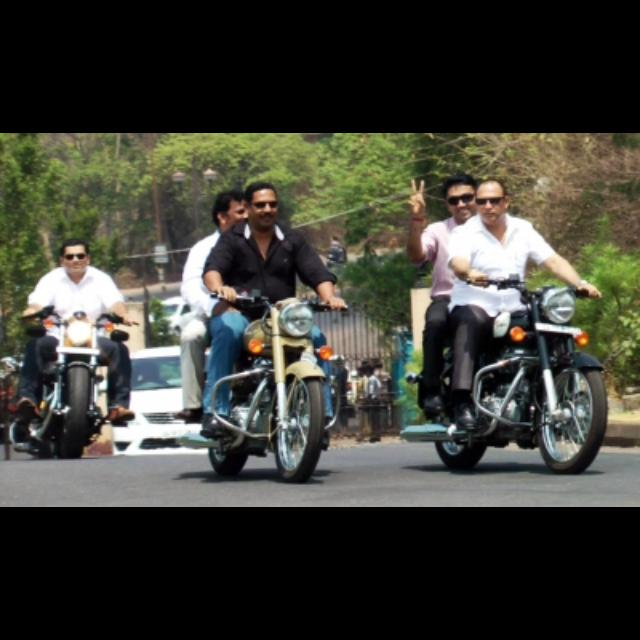Without Helmet: (237, 178, 285, 228), (469, 173, 509, 224), (53, 235, 93, 277)
